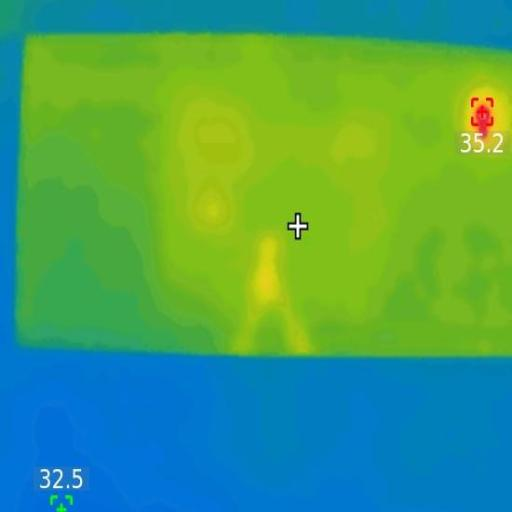hotspot: (474, 98, 496, 147)
